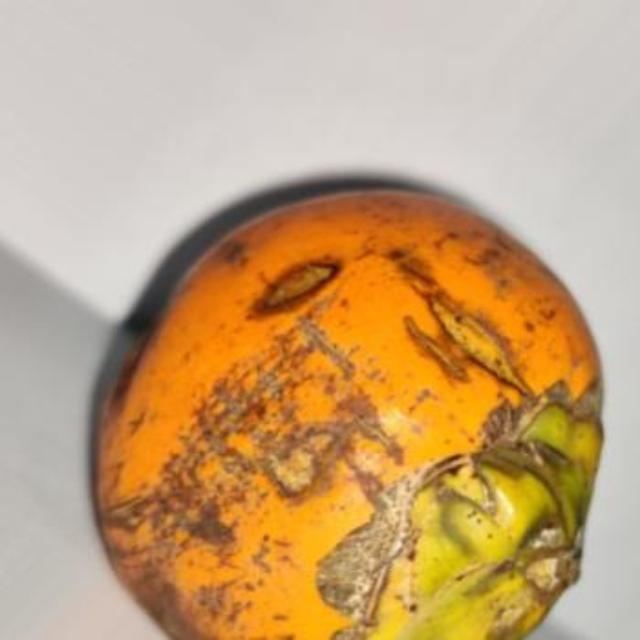good: (88, 187, 605, 638)
